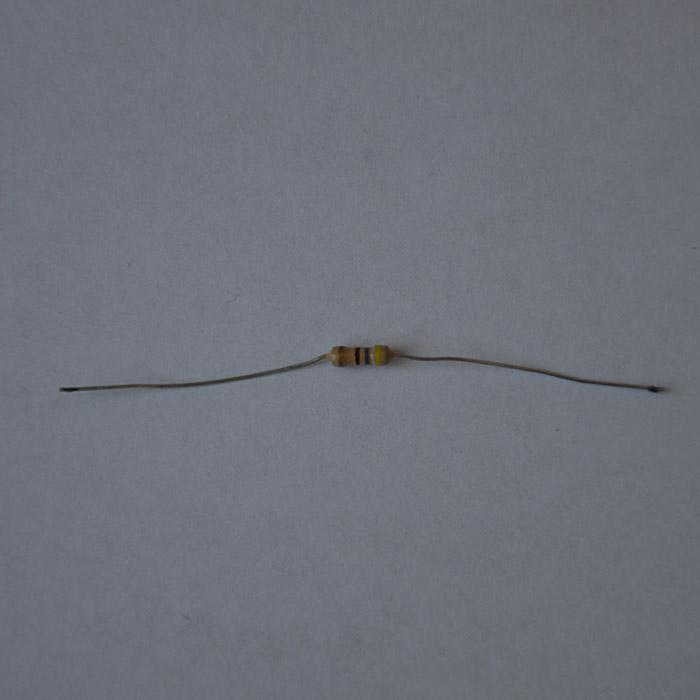resistor: (327, 343, 391, 366)
